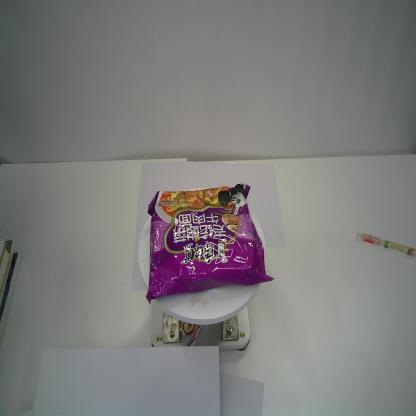Instant Noodles: (144, 179, 274, 306)
